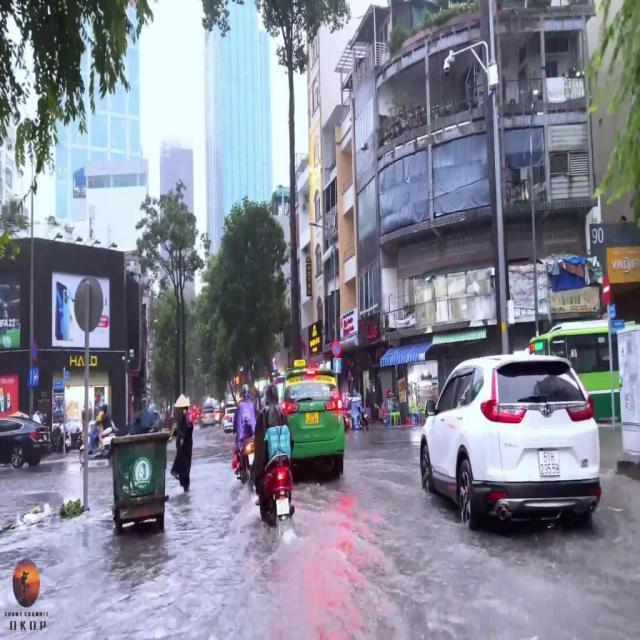102-cam-di-nguoc-chieu: (600, 276, 612, 304)
407a-duong-mot-chieu: (333, 358, 341, 374)
